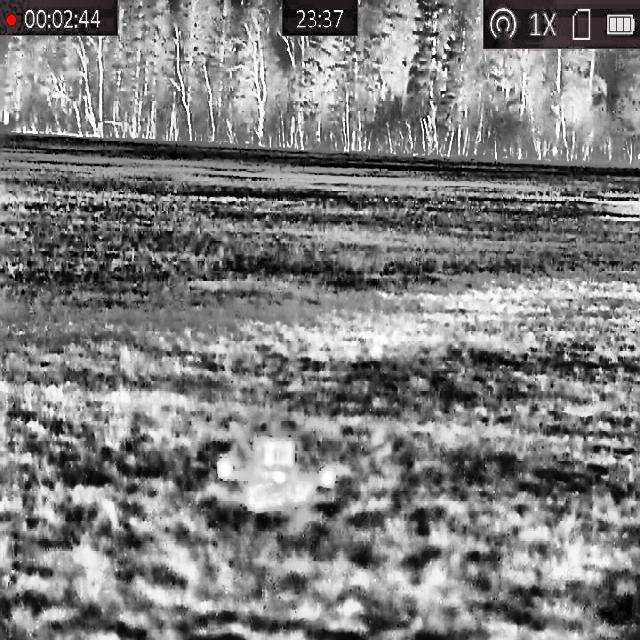drone: (216, 434, 338, 513)
